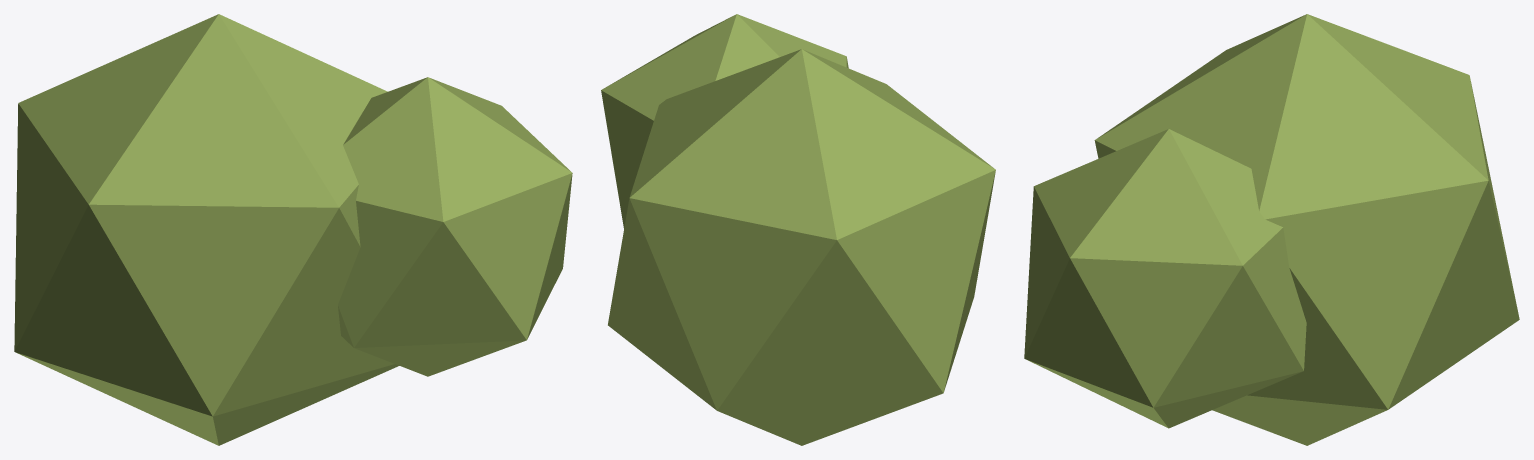
Rendered from bush_small_clump_2.glb.
The picture shows the model from 3 angles, left to right: view 1: azimuth 30°, elevation 25°; view 2: azimuth 150°, elevation 25°; view 3: azimuth 270°, elevation 25°; orthographic projection. The views are drawn at different scales.
Parts seen in each view (by area): view 1: Object_91; view 2: Object_91; view 3: Object_91.
Boxes of the visible parts, x1,y1,x2,y2 form: Object_91: (14,14,572,445); Object_91: (601,14,995,445); Object_91: (1024,14,1519,445).
Bounding box in the file's own units: 1.14 × 1.05 × 1.09.
